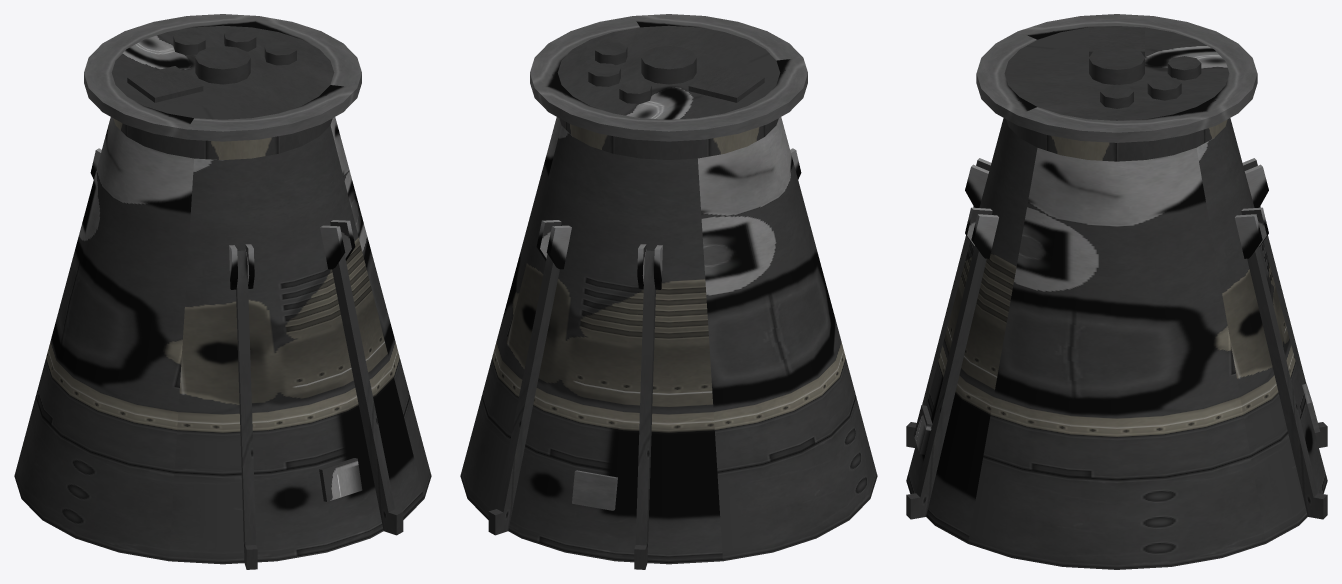
The model's file is probe_core.fbx.
3 renders of one model, left to right at view 1: azimuth 30°, elevation 25°; view 2: azimuth 150°, elevation 25°; view 3: azimuth 270°, elevation 25°, orthographic.
Visible parts, largest first — view 1: mesh; view 2: mesh; view 3: mesh.
Part boxes in pixels (<box>): mesh: <box>14,14,431,569</box>; mesh: <box>460,14,877,569</box>; mesh: <box>906,14,1327,569</box>.
Size of what is drawn, in the model's own units: 0.9375 by 1.09 by 0.9375.
